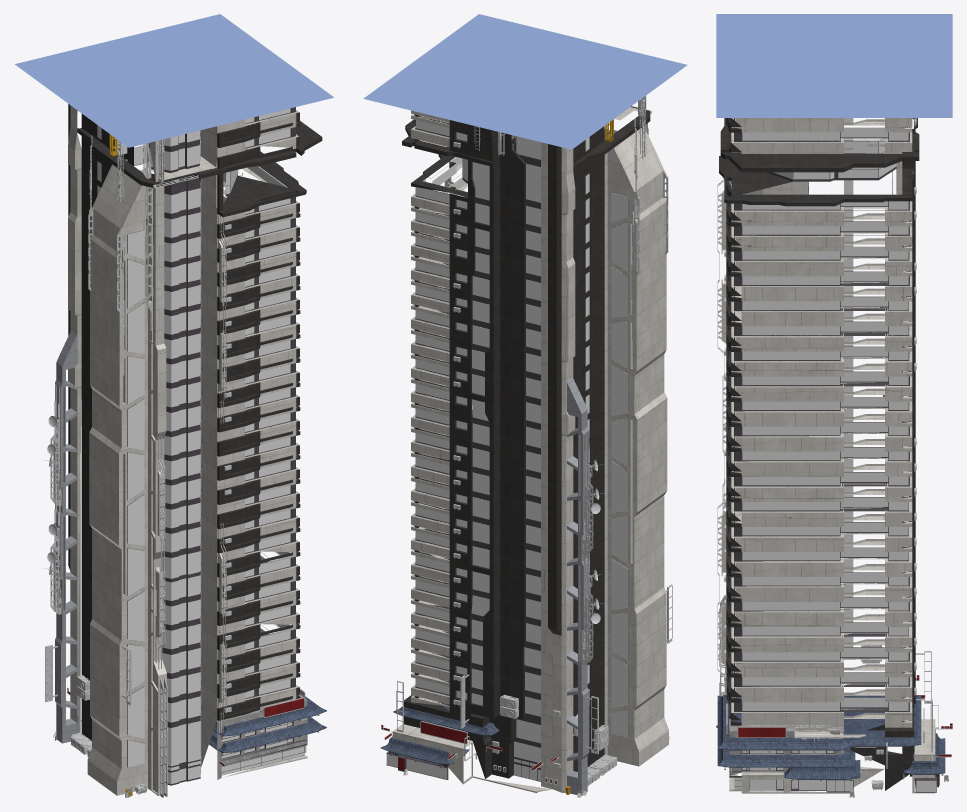
Rendered from KB3D_NEC_BldgLG_C_Main_H108.glb.
The picture shows the model from 3 angles, left to right: view 1: azimuth 30°, elevation 25°; view 2: azimuth 150°, elevation 25°; view 3: azimuth 270°, elevation 25°; orthographic projection. The views are drawn at different scales.
Parts seen in each view (by area): view 1: KB3D_NEC_BldgLG_C_Main, roof_cap_node; view 2: KB3D_NEC_BldgLG_C_Main, roof_cap_node; view 3: KB3D_NEC_BldgLG_C_Main, roof_cap_node.
Boxes of the visible parts, bbox=[...] form: KB3D_NEC_BldgLG_C_Main: bbox=[43, 104, 326, 797]; roof_cap_node: bbox=[14, 14, 333, 147]; KB3D_NEC_BldgLG_C_Main: bbox=[380, 95, 672, 797]; roof_cap_node: bbox=[363, 14, 687, 149]; KB3D_NEC_BldgLG_C_Main: bbox=[716, 118, 952, 797]; roof_cap_node: bbox=[716, 14, 952, 117].
Bounding box in the file's own units: 35.22 × 108 × 33.86.
13 materials, 11 textured.
